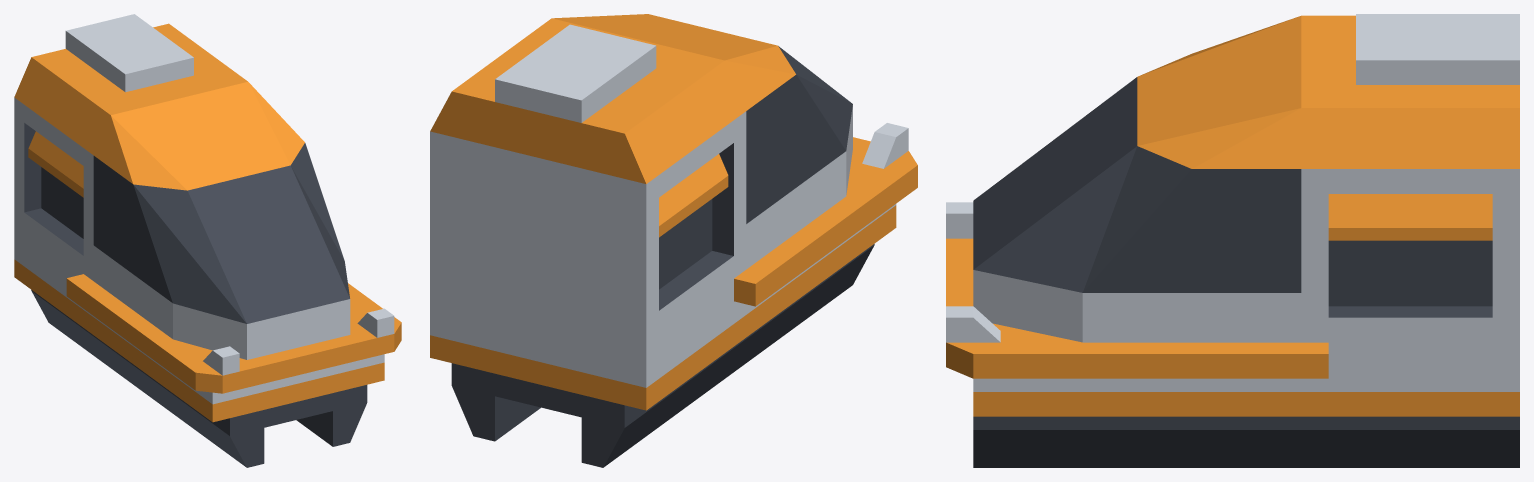
Rendered from monorail_trainFront.glb.
3 renders of one model, left to right at view 1: azimuth 30°, elevation 25°; view 2: azimuth 150°, elevation 25°; view 3: azimuth 270°, elevation 25°, orthographic. The views are drawn at different scales.
Parts seen in each view (by area): view 1: monorail_trainFront; view 2: monorail_trainFront; view 3: monorail_trainFront.
Part boxes in pixels (left/top/right/bottom): monorail_trainFront: left=14, top=14, right=401, bottom=467; monorail_trainFront: left=430, top=14, right=917, bottom=467; monorail_trainFront: left=946, top=14, right=1519, bottom=467.
Size of the model in its own units: 0.6 by 0.8 by 1.05.
